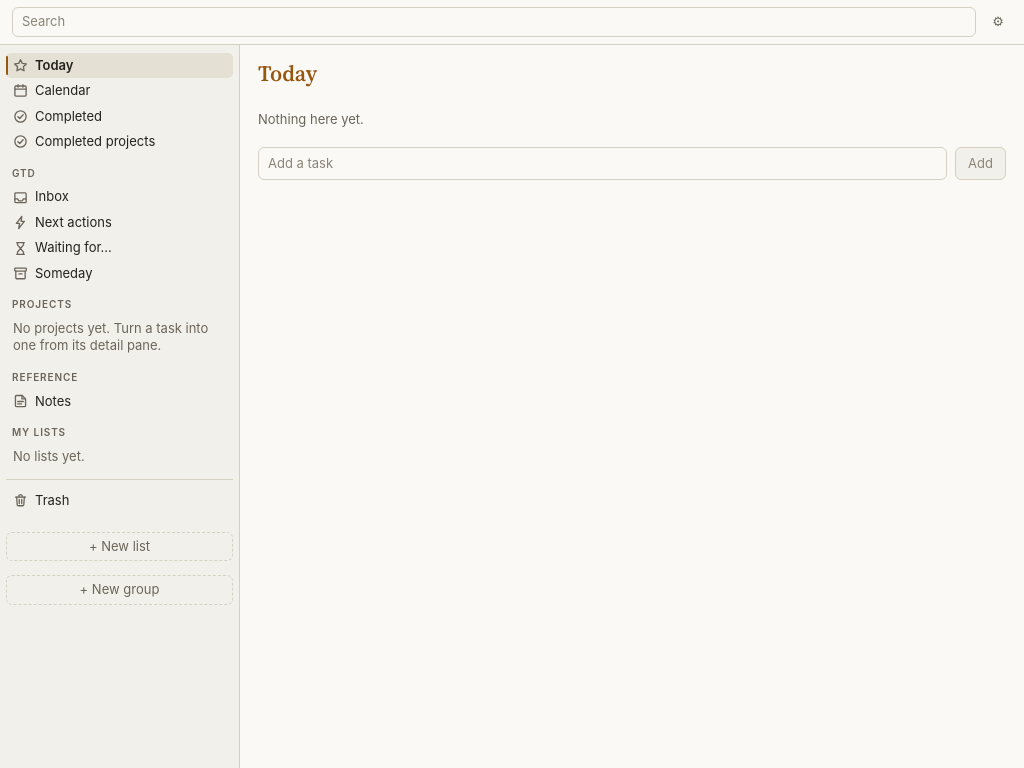
Test: Completed projects, composed › unCompletingPutsItBackInTheSidebar
The width and height of the screenshot is (1024, 768).
Click the button "Completed projects" at coordinates (120, 142), box top-left (6, 129), bottom-right (233, 155)
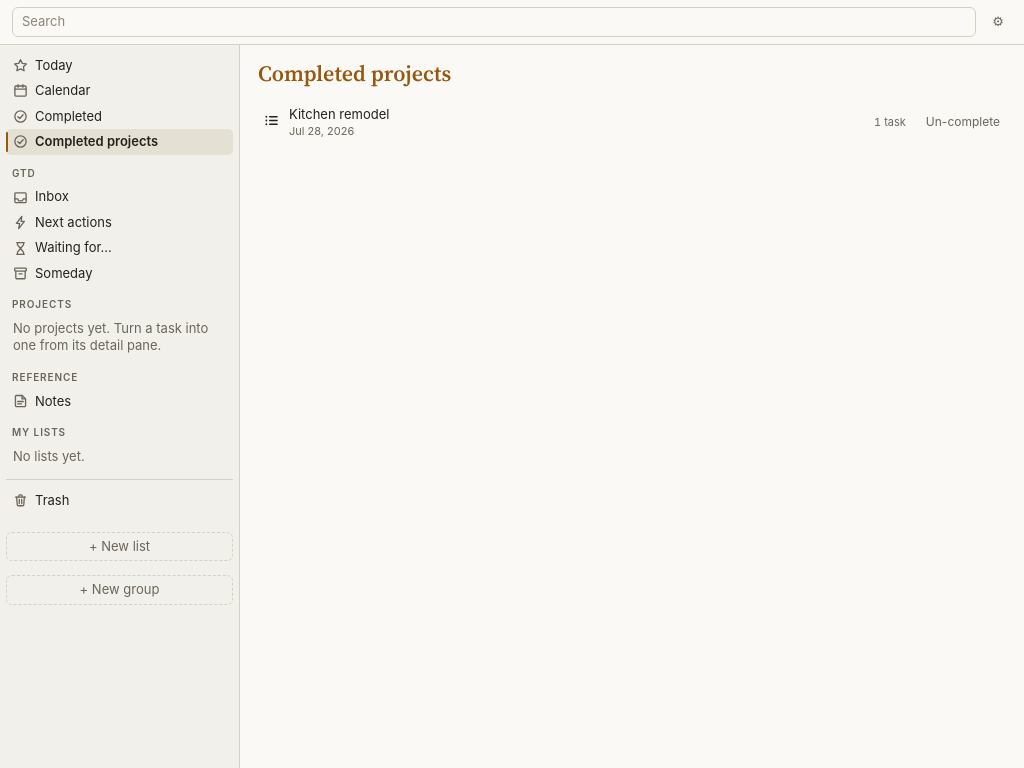
Click the button "Un-complete" at coordinates (963, 122), box top-left (920, 110), bottom-right (1006, 134)
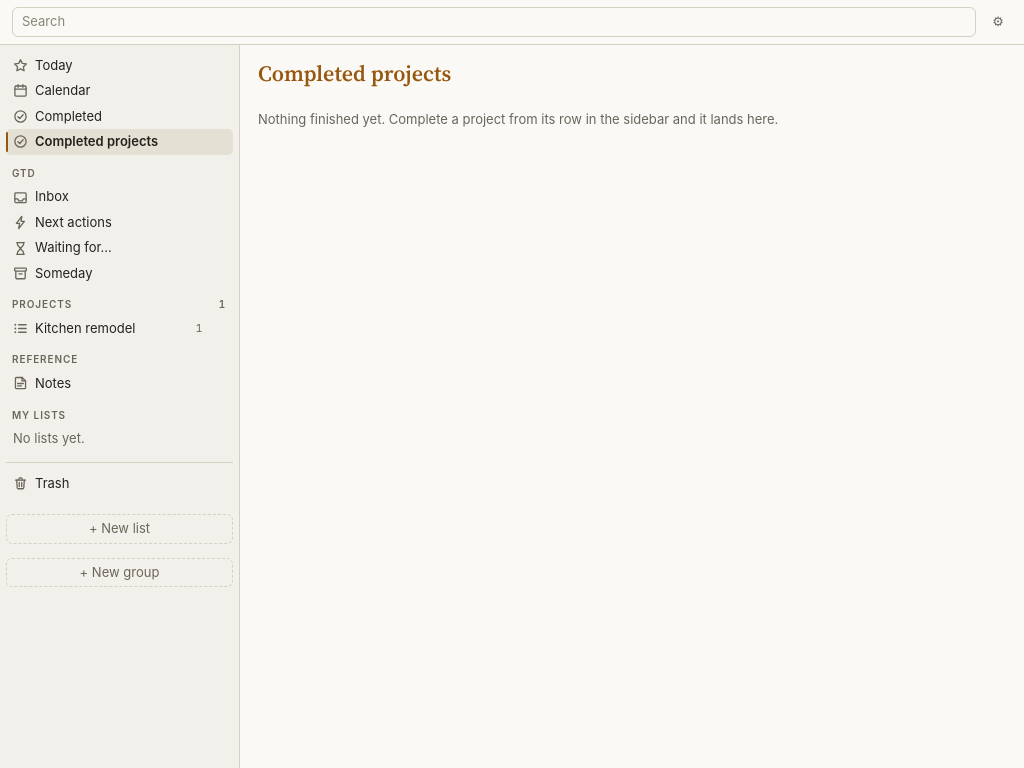
Now the text "Nothing finished yet" is shown, box top-left (258, 111), bottom-right (778, 127)
